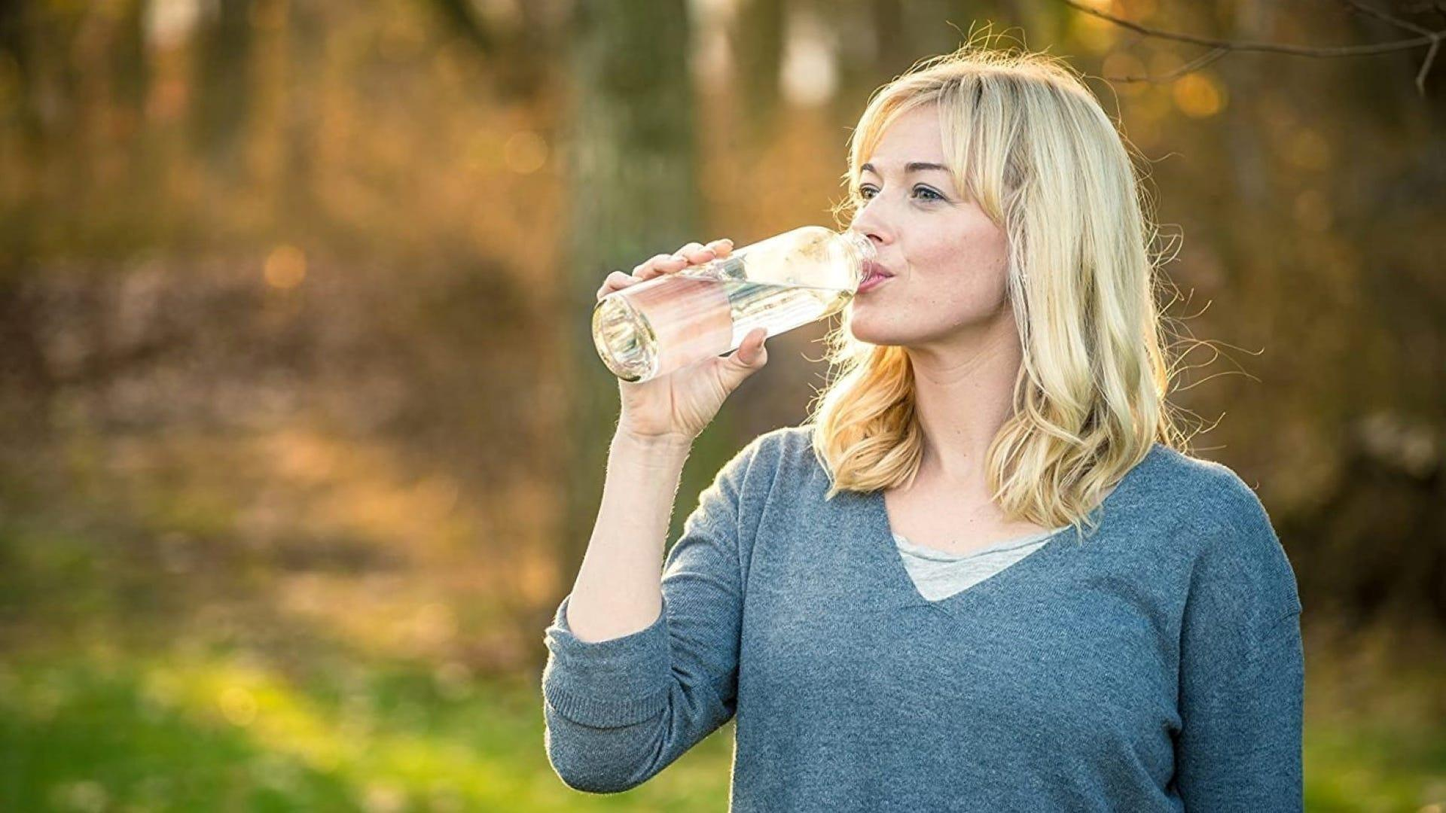gym bottle: (593, 216, 880, 382)
